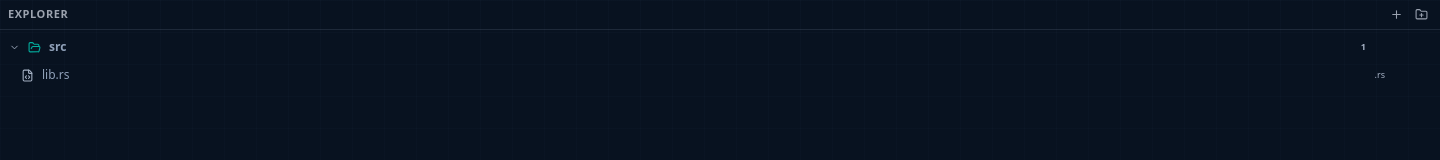
Test case: FileTree › folder › hides children after clicking the folder header to close it
Click the button "src 1" at (14, 47), box [0,34,1439,60]
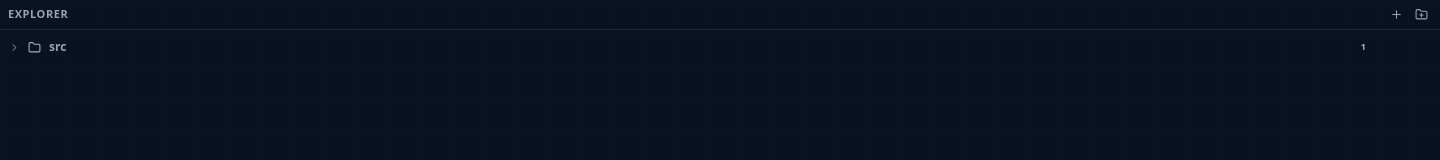
expect the text "lib.rs" is gone: met
